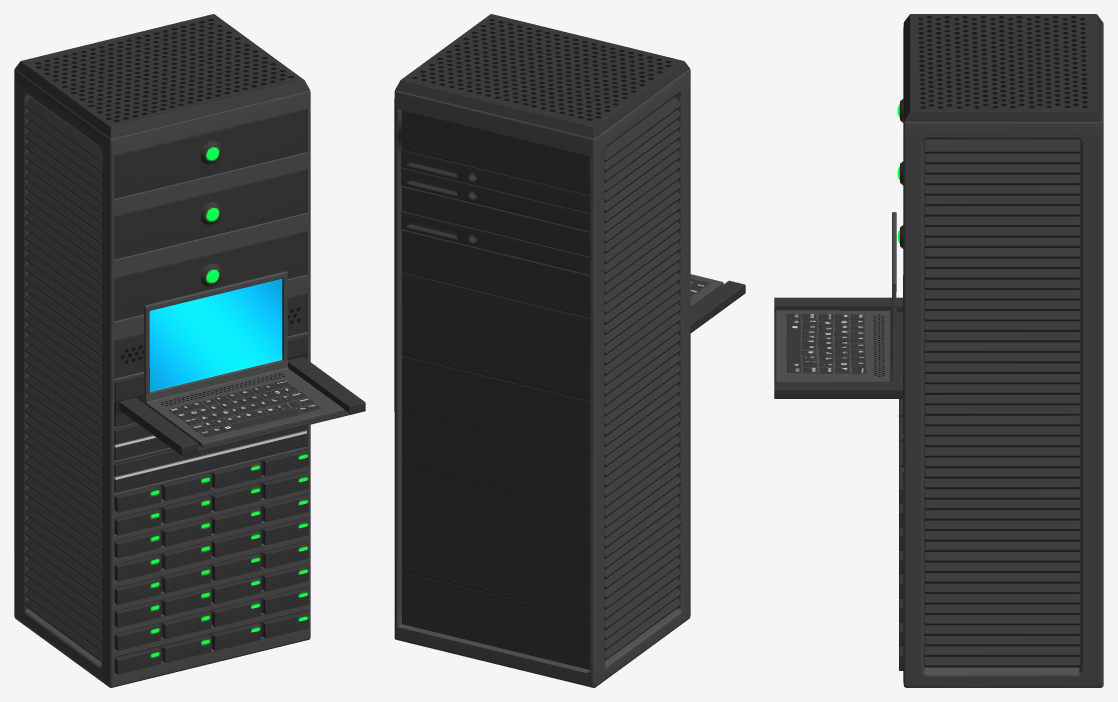
Rendered from server.glb.
3 views of the same model, side by side, from view 1: azimuth 30°, elevation 25°; view 2: azimuth 150°, elevation 25°; view 3: azimuth 270°, elevation 25° (orthographic). The views are drawn at different scales.
Visible parts, largest first — view 1: server.1; view 2: server.1; view 3: server.1.
Part boxes in pixels (<box>): server.1: <box>14,14,365,687</box>; server.1: <box>394,14,745,687</box>; server.1: <box>774,14,1103,687</box>.
Bounding box in the file's own units: 0.0463 × 0.1226 × 0.0636.
Materials: 1 (1 with a texture image).
